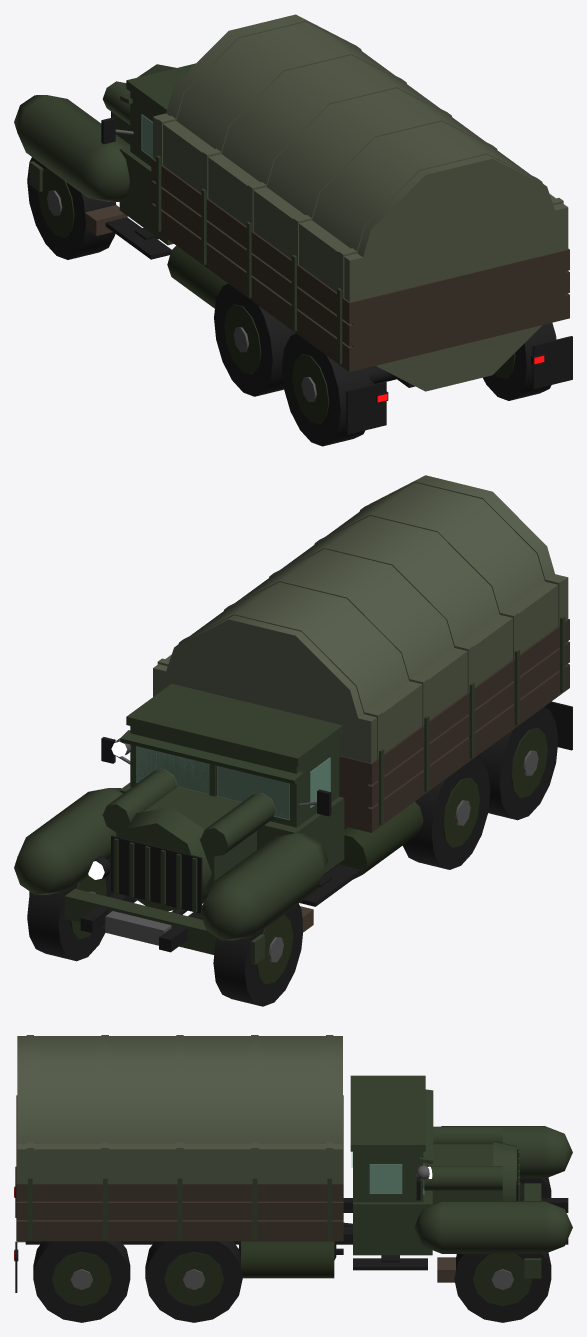
The model's file is zil-157.glb.
The picture shows the model from 3 angles, top to bottom: view 1: azimuth 30°, elevation 25°; view 2: azimuth 150°, elevation 25°; view 3: azimuth 270°, elevation 25°; orthographic projection. The views are drawn at different scales.
Visible parts, largest first — view 1: Mesh_CanopyArch, Mesh_CanopyLower, Mesh_BedTailgate, Mesh_FenderRight, Mesh_WheelRR_Tire, Mesh_PlankR_1, Mesh_WheelMR_Tire, Mesh_PlankR_2, Mesh_PlankR_0, Mesh_WheelFR_Tire, Mesh_BedFloor, Mesh_WheelRL_Tire (+17 smaller); view 2: Mesh_CanopyArch, Mesh_CanopyLower, Mesh_CabRoof, Mesh_FenderRight, Mesh_CabUpper, Mesh_FenderLeft, Mesh_WheelMR_Tire, Mesh_PlankR_1, Mesh_WheelRR_Tire, Mesh_PlankR_2, Mesh_WheelFR_Tire, Mesh_GrilleBack (+26 smaller); view 3: Mesh_CanopyArch, Mesh_CanopyLower, Mesh_FenderLeft, Mesh_CabRoof, Mesh_PlankL_1, Mesh_PlankL_2, Mesh_PlankL_0, Mesh_WheelRL_Tire, Mesh_WheelML_Tire, Mesh_CabBase, Mesh_FuelTankL, Mesh_CabUpper (+24 smaller).
Part boxes in pixels (x1,y1,x2,y2): Mesh_CanopyArch: (155,14,567,391); Mesh_CanopyLower: (153,113,568,301); Mesh_BedTailgate: (351,250,565,364); Mesh_FenderRight: (14,95,130,201); Mesh_WheelRR_Tire: (282,333,370,446); Mesh_PlankR_1: (151,180,353,346); Mesh_WheelMR_Tire: (214,283,295,396); Mesh_PlankR_2: (151,158,353,323); Mesh_PlankR_0: (151,203,353,367); Mesh_WheelFR_Tire: (27,157,116,259); Mesh_BedFloor: (151,224,569,371); Mesh_WheelRL_Tire: (483,323,556,400); Mesh_CanopyArch: (159,475,567,826); Mesh_CanopyLower: (153,574,568,762); Mesh_CabRoof: (126,683,342,766); Mesh_FenderRight: (200,833,327,940); Mesh_CabUpper: (130,726,339,827); Mesh_FenderLeft: (14,788,122,894); Mesh_WheelMR_Tire: (402,757,490,869); Mesh_PlankR_1: (368,641,569,807); Mesh_WheelRR_Tire: (476,707,558,820); Mesh_PlankR_2: (368,619,569,784); Mesh_WheelFR_Tire: (213,903,302,1006); Mesh_GrilleBack: (111,835,202,913); Mesh_CanopyArch: (17,1036,342,1242); Mesh_CanopyLower: (17,1144,342,1183); Mesh_FenderLeft: (414,1201,572,1253); Mesh_CabRoof: (350,1075,425,1151); Mesh_PlankL_1: (16,1201,343,1219); Mesh_PlankL_2: (16,1183,343,1201); Mesh_PlankL_0: (16,1220,343,1238); Mesh_WheelRL_Tire: (33,1241,130,1322); Mesh_WheelML_Tire: (145,1241,242,1322); Mesh_CabBase: (353,1190,432,1255); Mesh_FuelTankL: (241,1241,334,1278); Mesh_CabUpper: (353,1151,423,1202).
Bounding box in the file's own units: 2.5 × 2.72 × 5.98.
